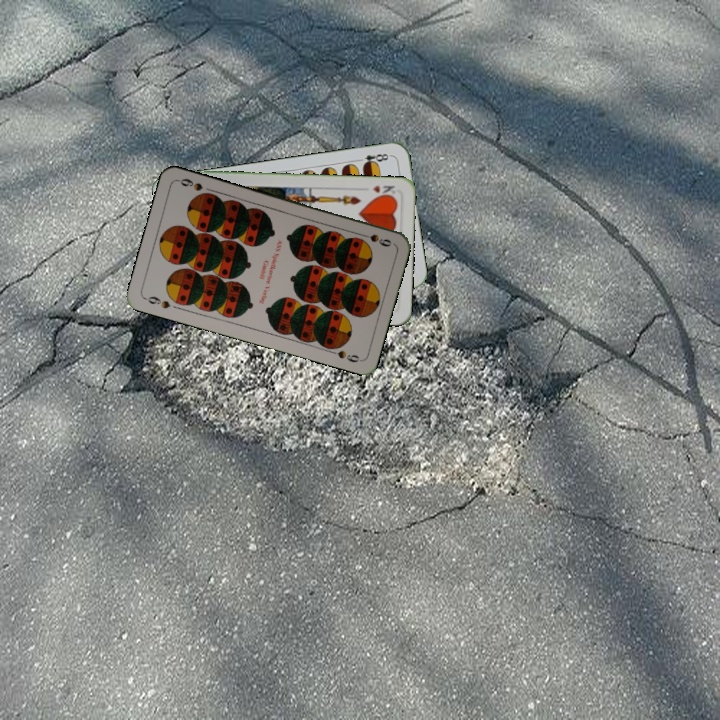E8: (353, 149, 394, 169)
HK: (369, 181, 398, 200)
S9: (355, 229, 394, 249), (141, 292, 173, 311)
